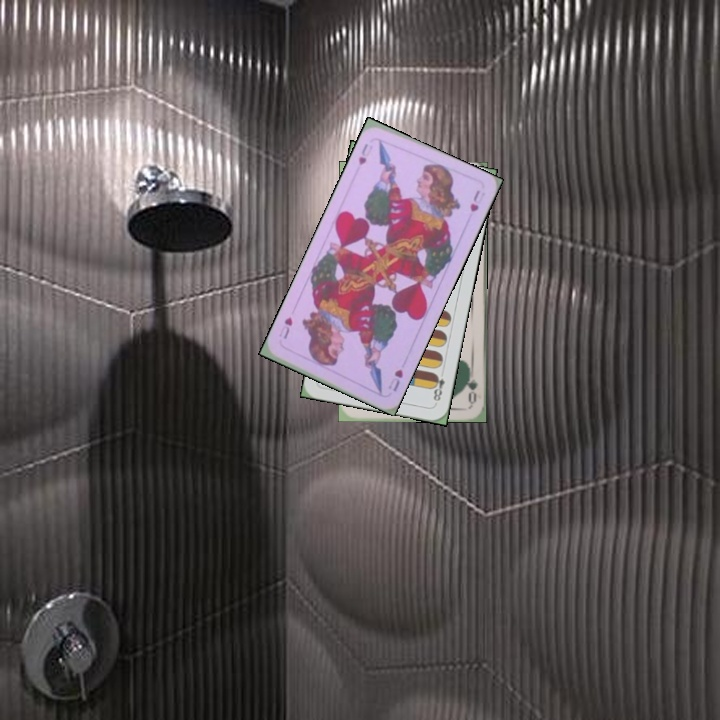E8: (428, 366, 447, 407)
GO: (462, 365, 480, 406)
HU: (384, 365, 406, 394), (354, 139, 370, 168)
